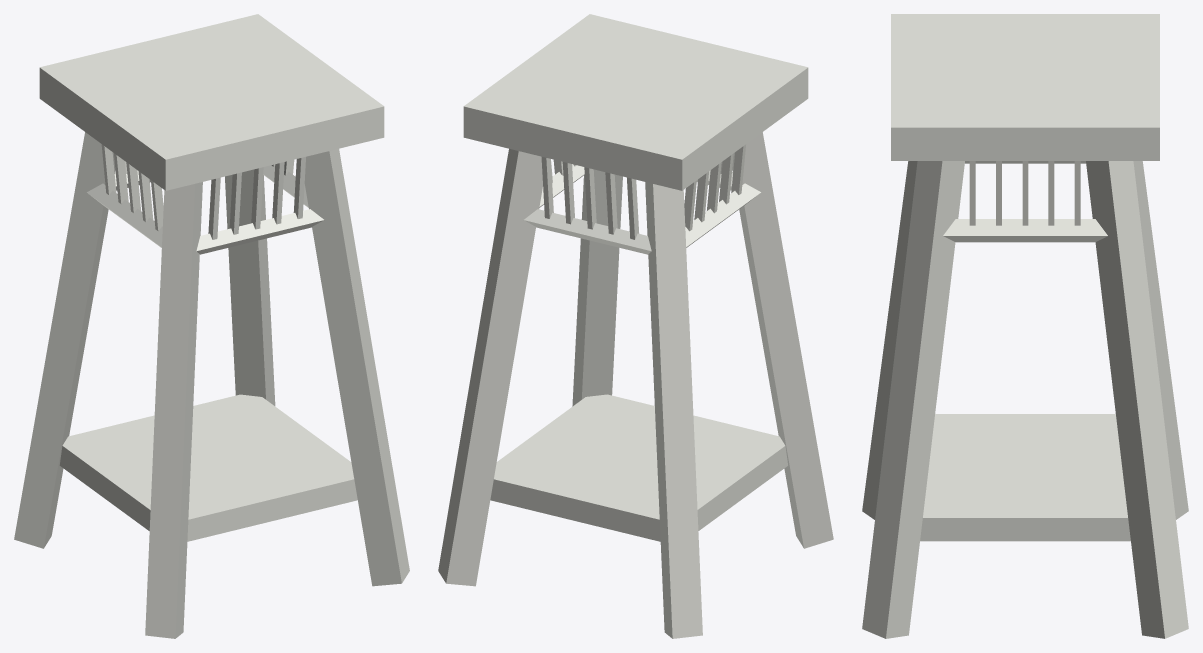
Rendered from Stool_2.fbx.
3 views of the same model, side by side, from view 1: azimuth 30°, elevation 25°; view 2: azimuth 150°, elevation 25°; view 3: azimuth 270°, elevation 25° (orthographic). The views are drawn at different scales.
Parts seen in each view (by area): view 1: polySurface2091; view 2: polySurface2091; view 3: polySurface2091.
Part boxes in pixels (x1,y1,x2,y2): polySurface2091: (14,14,409,638); polySurface2091: (438,14,833,638); polySurface2091: (862,14,1188,638).
Bounding box in the file's own units: 0.6236 × 1.07 × 0.625.
Materials: 1 (1 with a texture image).
